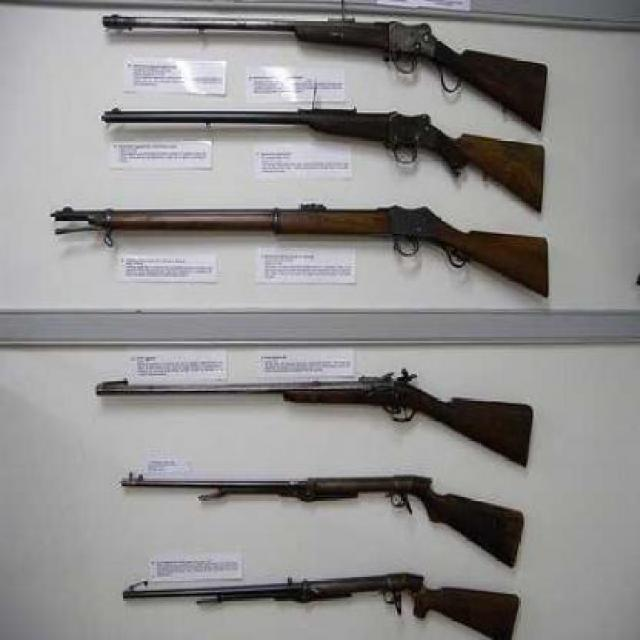weapon: (98, 11, 550, 136), (99, 104, 546, 215), (48, 202, 550, 300), (94, 367, 536, 470), (118, 470, 527, 573), (120, 571, 522, 640)
